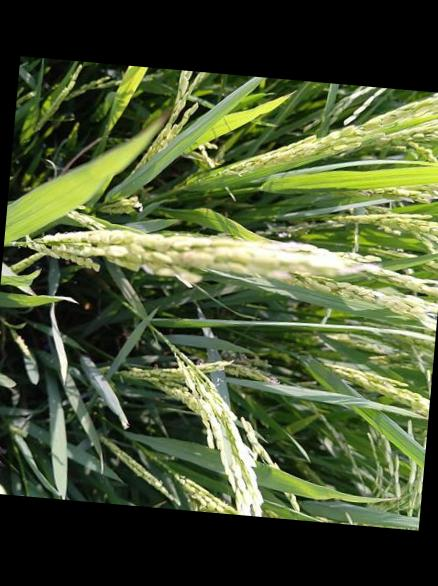Leaf Blight: (101, 110, 169, 175)
